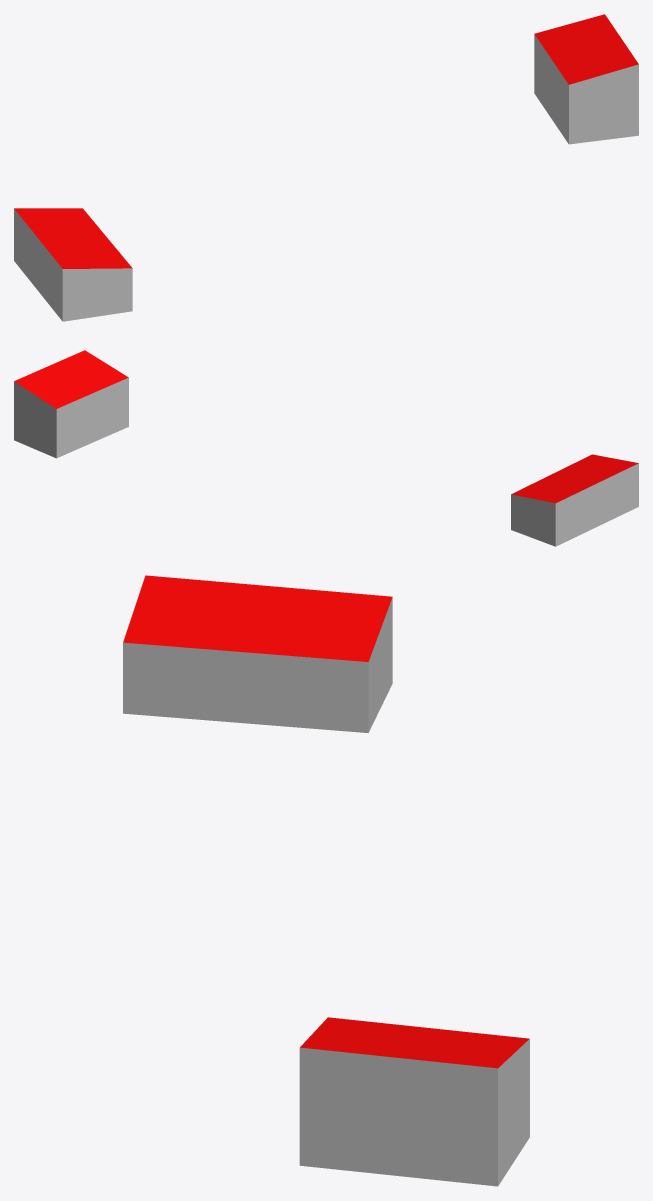
3 views of the same model, one above another, from view 1: azimuth 30°, elevation 25°; view 2: azimuth 150°, elevation 25°; view 3: azimuth 270°, elevation 25° (orthographic). The views are drawn at different scales.
Bounding box in the file's own units: 40.55 × 4.26 × 13.3.
